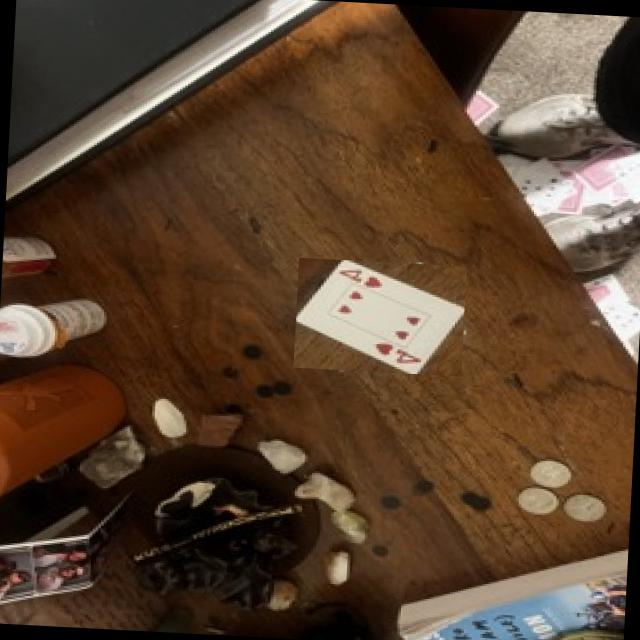4 of hearts: (297, 259, 465, 373)
